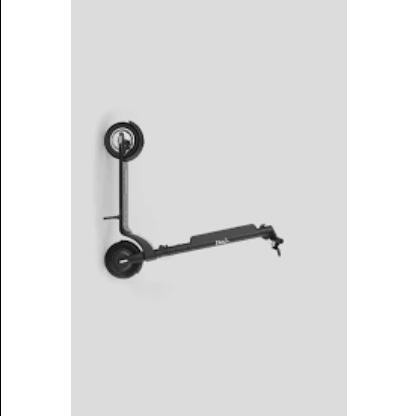bike: (102, 120, 285, 279)
